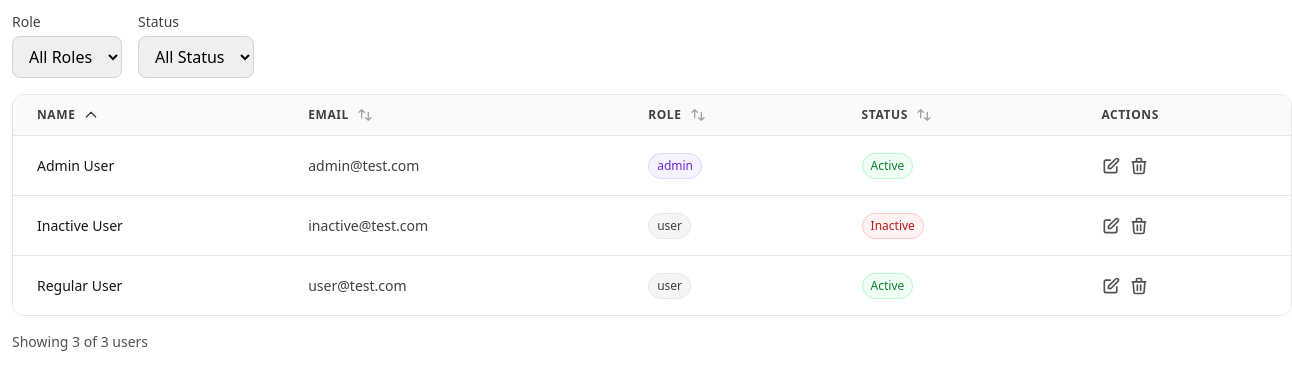
Scenario: UserTable › filters by role
Note: Select admin role filter
Select "Admin" in the dropdown labelled "Role". click: x=67, y=57
box: [12,36,122,78]
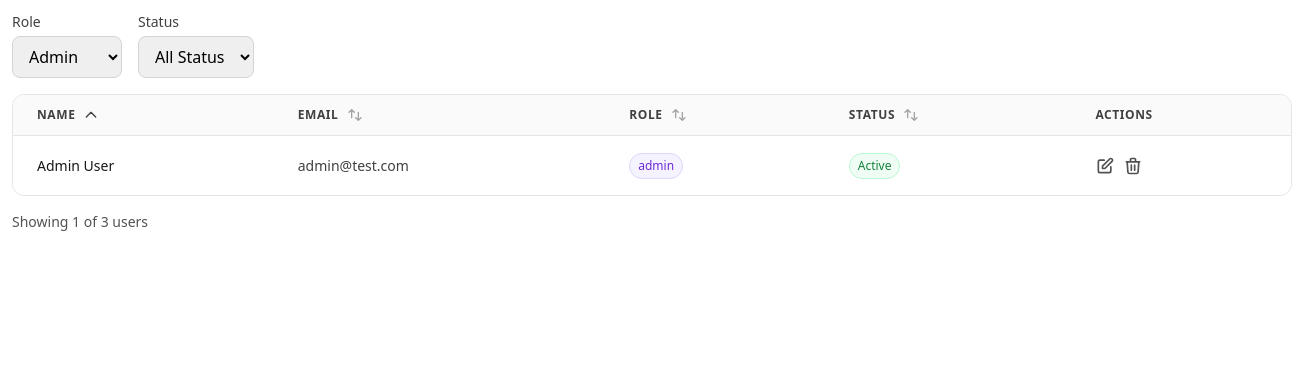
Check: the text "admin@test.com" is shown, box [298,156,409,174]
Check: the text "user@test.com" is gone
